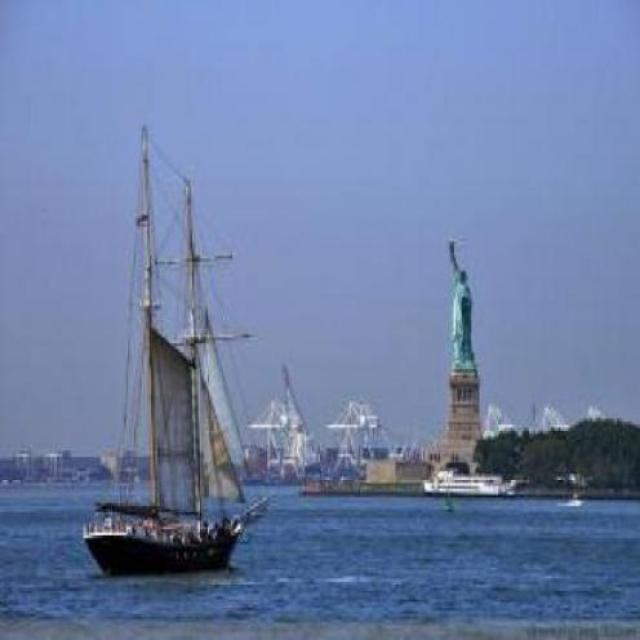boat: (34, 132, 278, 570)
